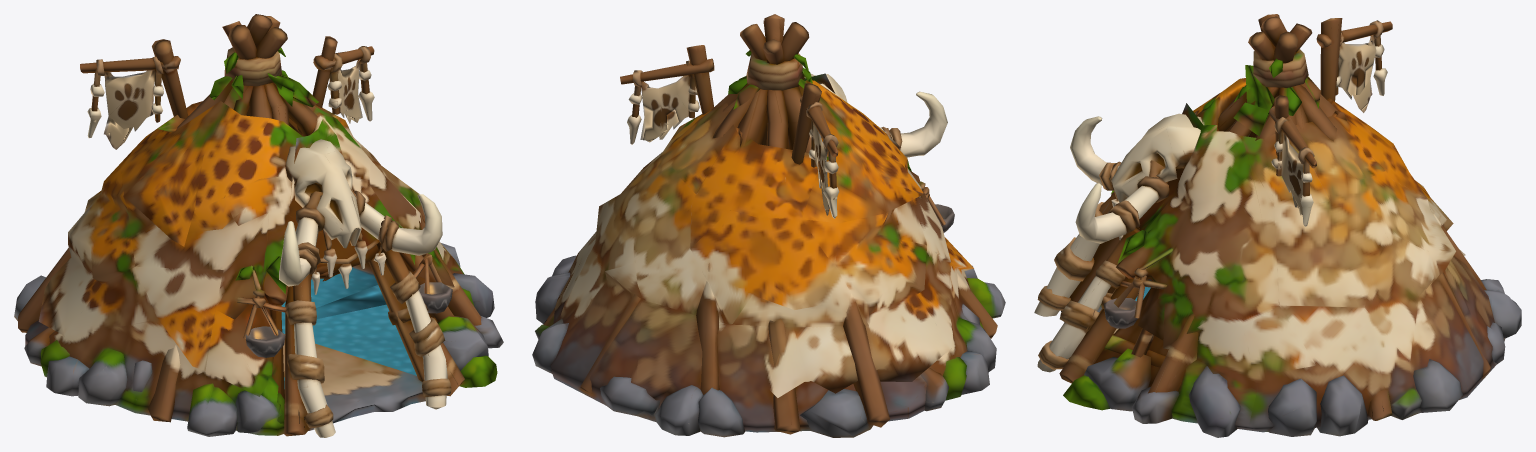
The model's file is hut_lv2.glb.
3 views of the same model, side by side, from view 1: azimuth 30°, elevation 25°; view 2: azimuth 150°, elevation 25°; view 3: azimuth 270°, elevation 25° (orthographic).
Visible parts, largest first — view 1: geometry_0; view 2: geometry_0; view 3: geometry_0.
Boxes of the visible parts, x1,y1,x2,y2 form: geometry_0: (14, 14, 503, 437); geometry_0: (532, 14, 1005, 437); geometry_0: (1034, 14, 1521, 437).
Bounding box in the file's own units: 0.9375 × 0.6978 × 0.9565.
Materials: 1 (1 with a texture image).
